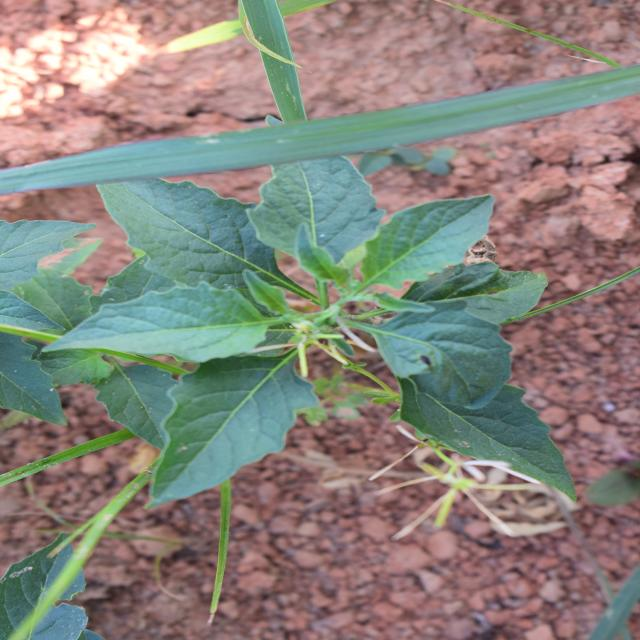Black_nightshade: (170, 88, 486, 547)
